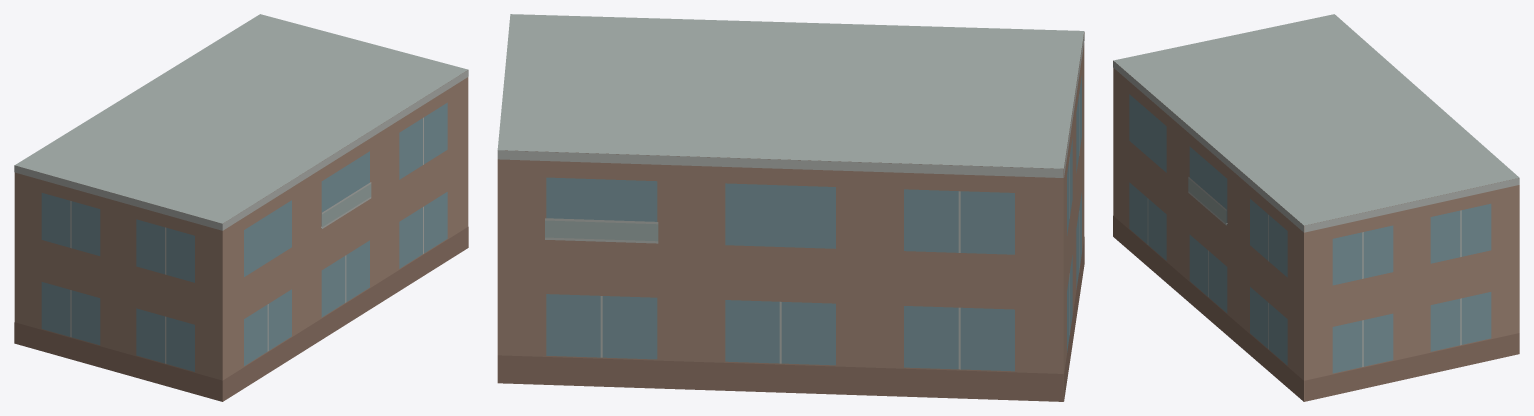
Rendered from survey-upis-32747003.glb.
3 views of the same model, side by side, from view 1: azimuth 30°, elevation 25°; view 2: azimuth 150°, elevation 25°; view 3: azimuth 270°, elevation 25° (orthographic). The views are drawn at different scales.
Parts seen in each view (by area): view 1: survey-upis-32747003.tmp; view 2: survey-upis-32747003.tmp; view 3: survey-upis-32747003.tmp.
Boxes of the visible parts, x1,y1,x2,y2 form: survey-upis-32747003.tmp: [14, 14, 468, 401]; survey-upis-32747003.tmp: [497, 14, 1084, 401]; survey-upis-32747003.tmp: [1113, 14, 1519, 401].
Bounding box in the file's own units: 15.72 × 6.1 × 12.76.
